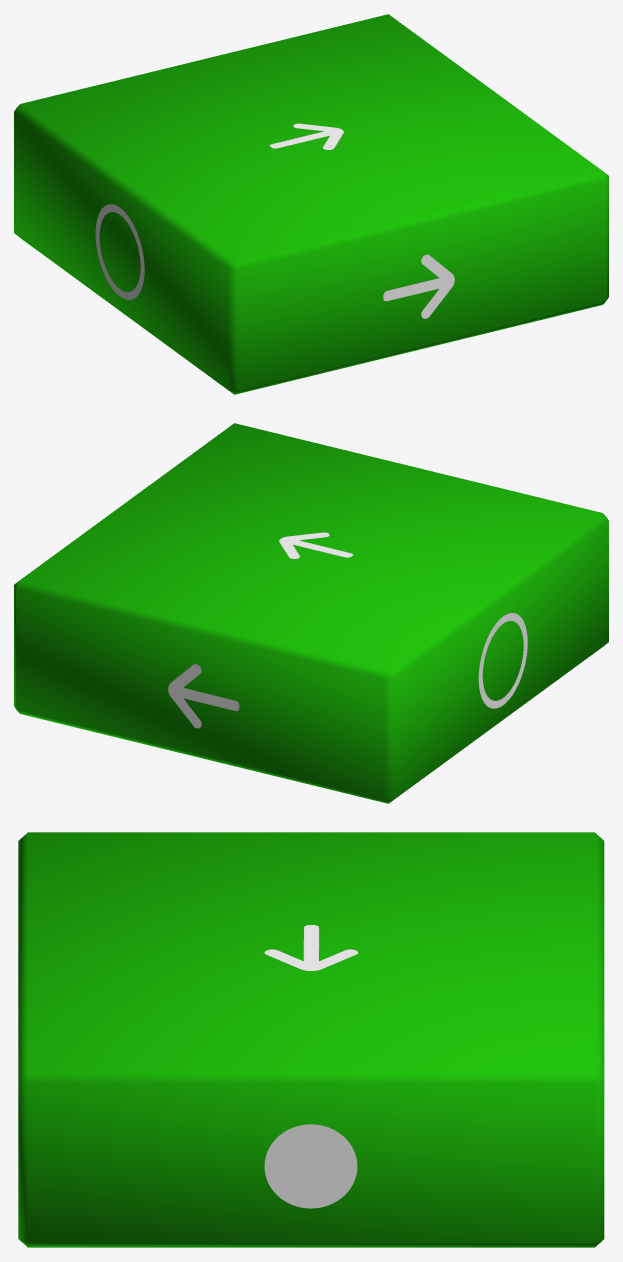
The model's file is BigBoxTapFlowBox_3_1_3_Clean_test2.fbx.
The picture shows the model from 3 angles, top to bottom: view 1: azimuth 30°, elevation 25°; view 2: azimuth 150°, elevation 25°; view 3: azimuth 270°, elevation 25°; orthographic projection. The views are drawn at different scales.
Parts seen in each view (by area): view 1: Box_3_1_3FlowBox_3_1_3_Clean_test; view 2: Box_3_1_3FlowBox_3_1_3_Clean_test; view 3: Box_3_1_3FlowBox_3_1_3_Clean_test.
Part boxes in pixels (box(x1,y1,x2,y2)): Box_3_1_3FlowBox_3_1_3_Clean_test: box(14, 14, 608, 394); Box_3_1_3FlowBox_3_1_3_Clean_test: box(14, 423, 608, 803); Box_3_1_3FlowBox_3_1_3_Clean_test: box(18, 832, 604, 1247).
Bounding box in the file's own units: 3.16 × 1.05 × 3.19.
